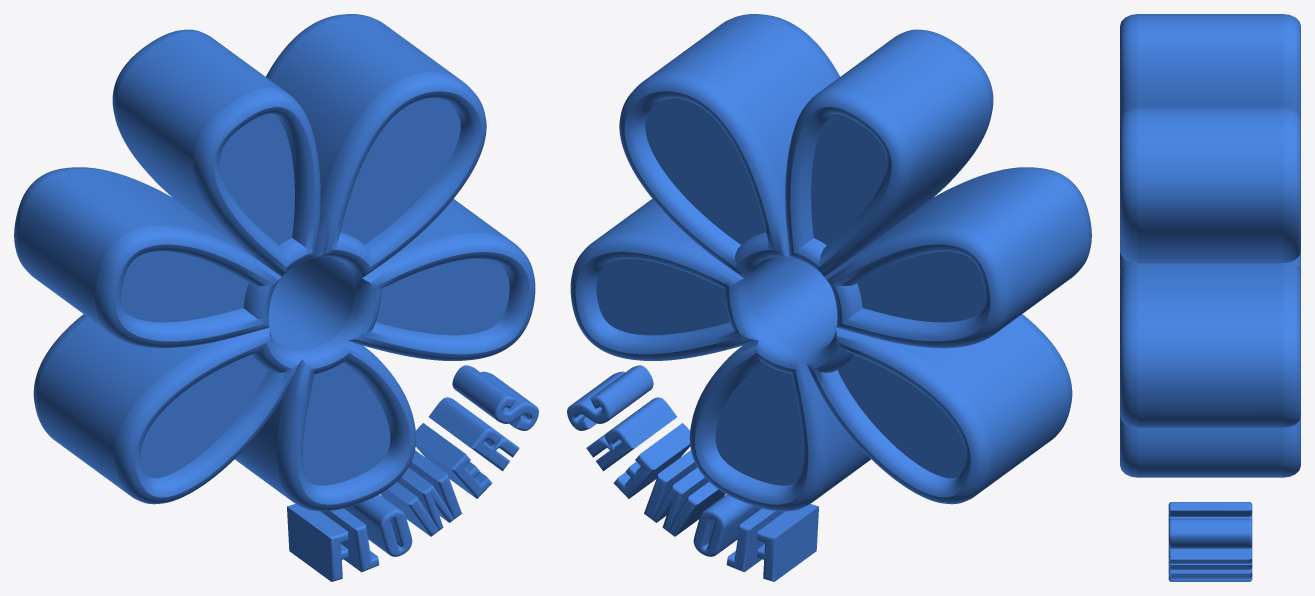
File: Flower.glb
3 renders of one model, left to right at view 1: azimuth 30°, elevation 25°; view 2: azimuth 150°, elevation 25°; view 3: azimuth 270°, elevation 25°, orthographic. The views are drawn at different scales.
Visible parts, largest first — view 1: Asset 1, Asset 2; view 2: Asset 1, Asset 2; view 3: Asset 1, Asset 2.
Boxes of the visible parts, x1=… form: Asset 1: x1=14, y1=14, x2=535, y2=511; Asset 2: x1=287, y1=365, x2=538, y2=581; Asset 1: x1=570, y1=14, x2=1091, y2=511; Asset 2: x1=567, y1=365, x2=818, y2=581; Asset 1: x1=1120, y1=14, x2=1300, y2=477; Asset 2: x1=1168, y1=502, x2=1252, y2=581.
Bounding box in the file's own units: 11.3 × 12.34 × 4.09.
